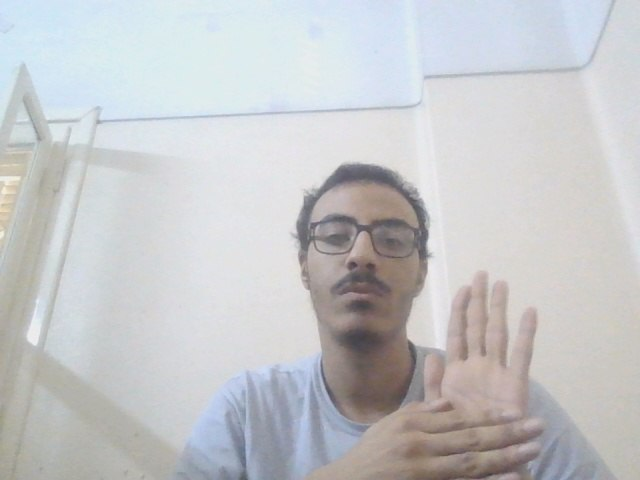Movie: (353, 266, 558, 480)
